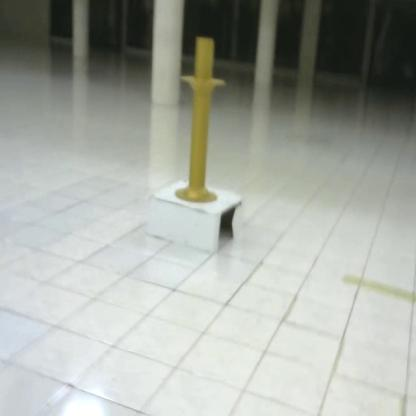pole: (171, 32, 229, 212)
